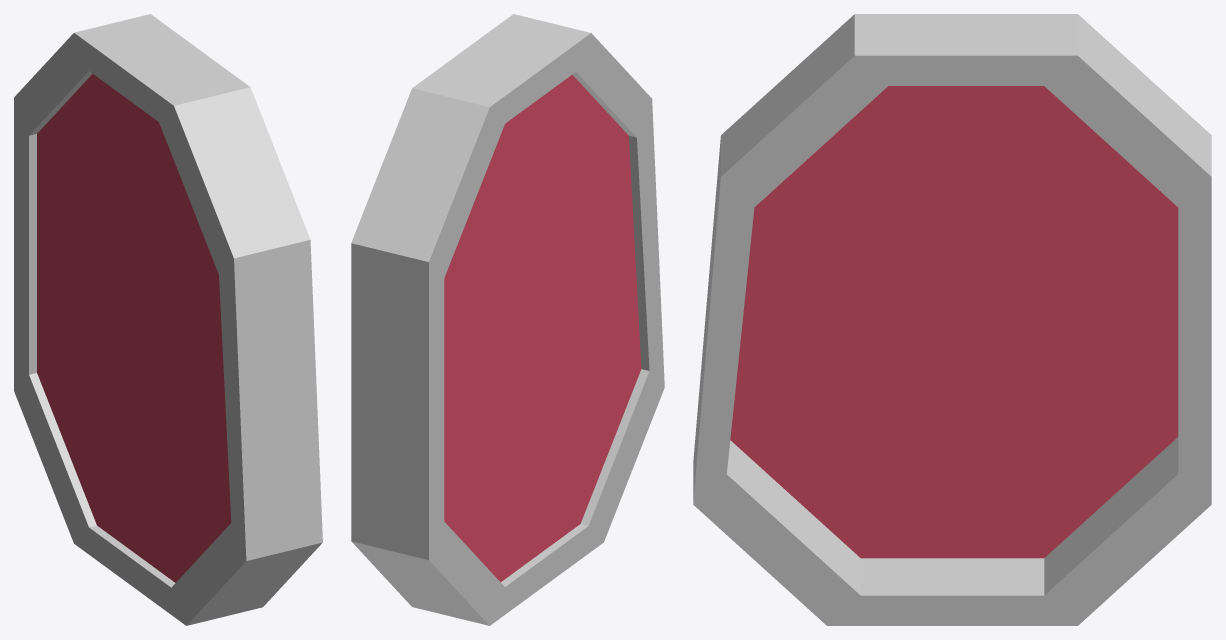
The model's file is MS_Frame5.fbx.
The picture shows the model from 3 angles, left to right: view 1: azimuth 30°, elevation 25°; view 2: azimuth 150°, elevation 25°; view 3: azimuth 270°, elevation 25°; orthographic projection. The views are drawn at different scales.
Visible parts, largest first — view 1: Plane.009; view 2: Plane.009; view 3: Plane.009.
Part boxes in pixels (x1=…): Plane.009: x1=14, y1=14, x2=322, y2=625; Plane.009: x1=351, y1=14, x2=664, y2=625; Plane.009: x1=693, y1=14, x2=1211, y2=625.
Size of the model in its own units: 13.44 by 85.68 by 70.61.
